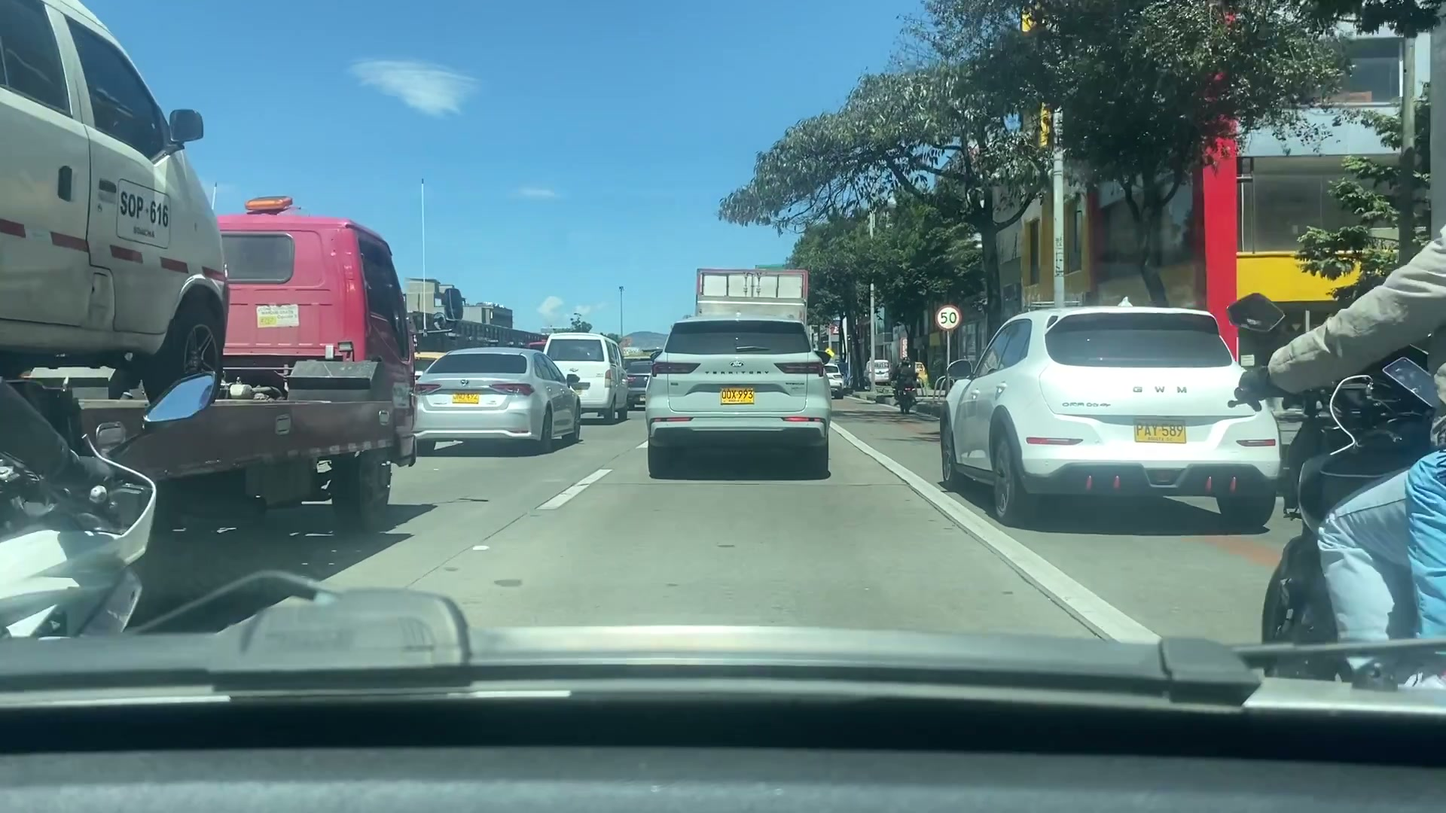bus: (0, 0, 242, 412), (542, 333, 634, 419)
car: (933, 301, 1285, 527), (648, 319, 824, 479), (414, 348, 582, 464), (622, 354, 657, 412), (822, 362, 850, 399)
motorcycle: (1237, 330, 1446, 697), (891, 380, 919, 415)
person: (893, 356, 919, 407)
truck: (0, 201, 467, 523), (691, 265, 810, 327)
